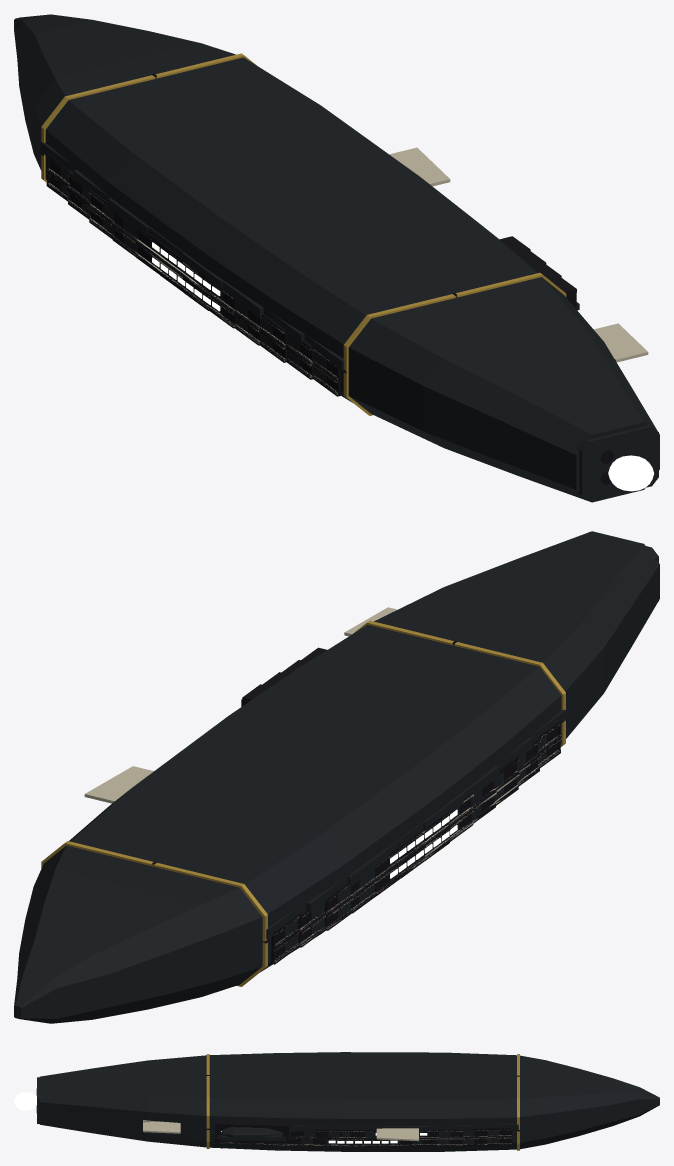
The picture shows the model from 3 angles, top to bottom: view 1: azimuth 30°, elevation 25°; view 2: azimuth 150°, elevation 25°; view 3: azimuth 270°, elevation 25°; orthographic projection. The views are drawn at different scales.
Parts seen in each view (by area): view 1: RIMWARD_HULL, RIMWARD_ENGINE_GLOW, RIMWARD_EMISSIVE; view 2: RIMWARD_HULL, RIMWARD_EMISSIVE; view 3: RIMWARD_HULL, RIMWARD_ENGINE_GLOW, RIMWARD_EMISSIVE.
Part boxes in pixels (box(x1,y1,x2,y2)): RIMWARD_HULL: box(14, 14, 659, 502); RIMWARD_ENGINE_GLOW: box(608, 455, 654, 491); RIMWARD_EMISSIVE: box(152, 242, 220, 311); RIMWARD_HULL: box(14, 531, 659, 1023); RIMWARD_EMISSIVE: box(390, 809, 457, 878); RIMWARD_HULL: box(36, 1052, 659, 1151); RIMWARD_ENGINE_GLOW: box(14, 1092, 36, 1110); RIMWARD_EMISSIVE: box(221, 1131, 427, 1143).
Bounding box in the file's own units: 8.14 × 3.27 × 30.66.
